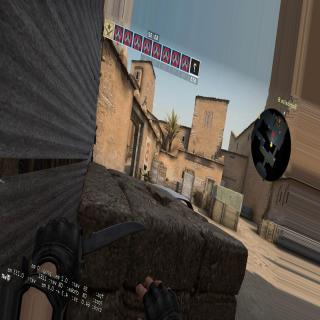CT-Body: (140, 163, 148, 180)
CT-Head: (143, 164, 147, 168)
